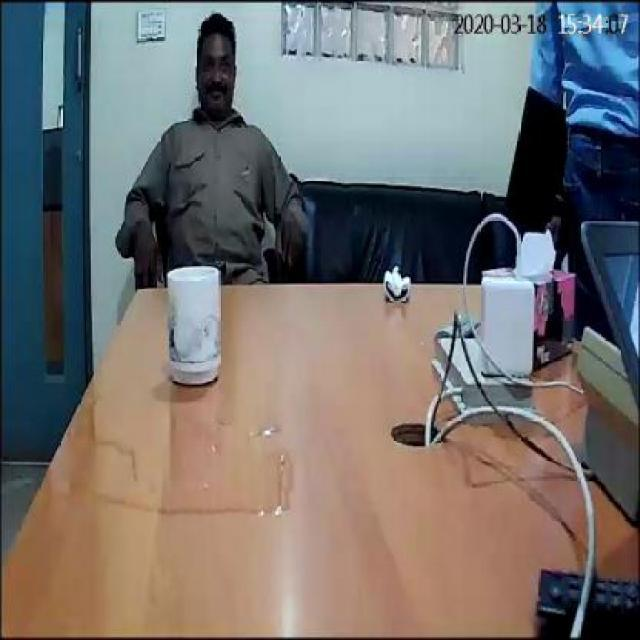spill: (94, 400, 294, 518)
